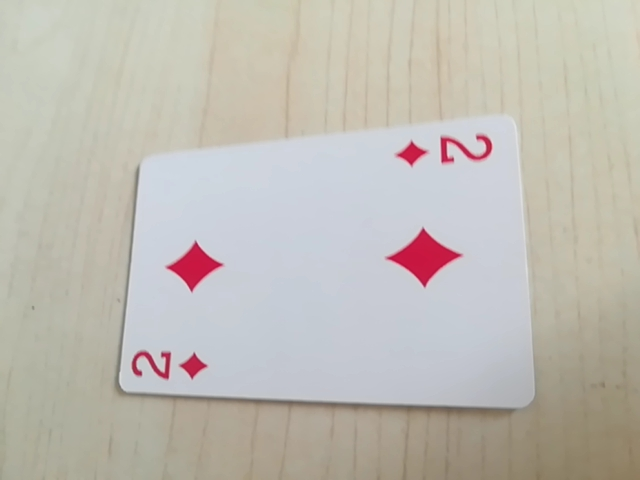fk 2: (395, 127, 504, 177), (127, 340, 213, 390)
